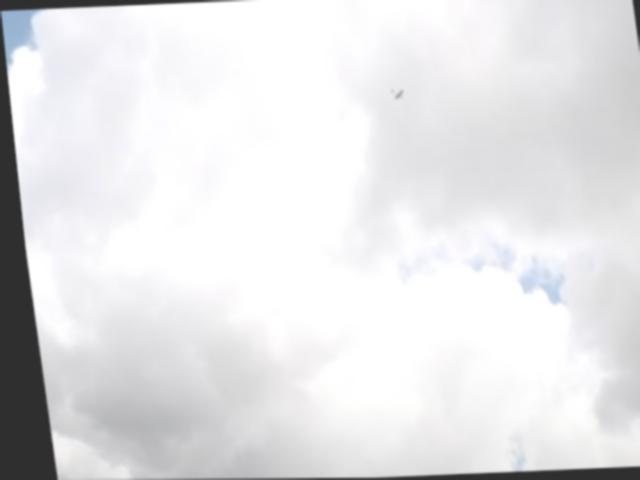iha: (384, 84, 409, 107)
